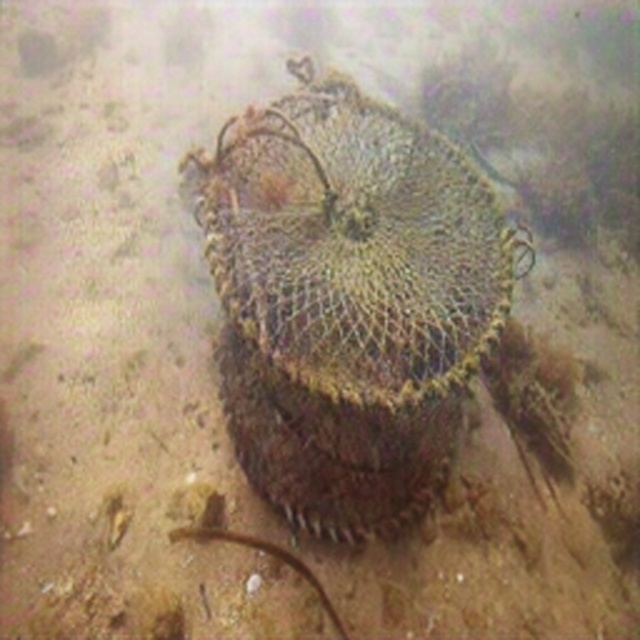mine: (202, 74, 514, 544)
